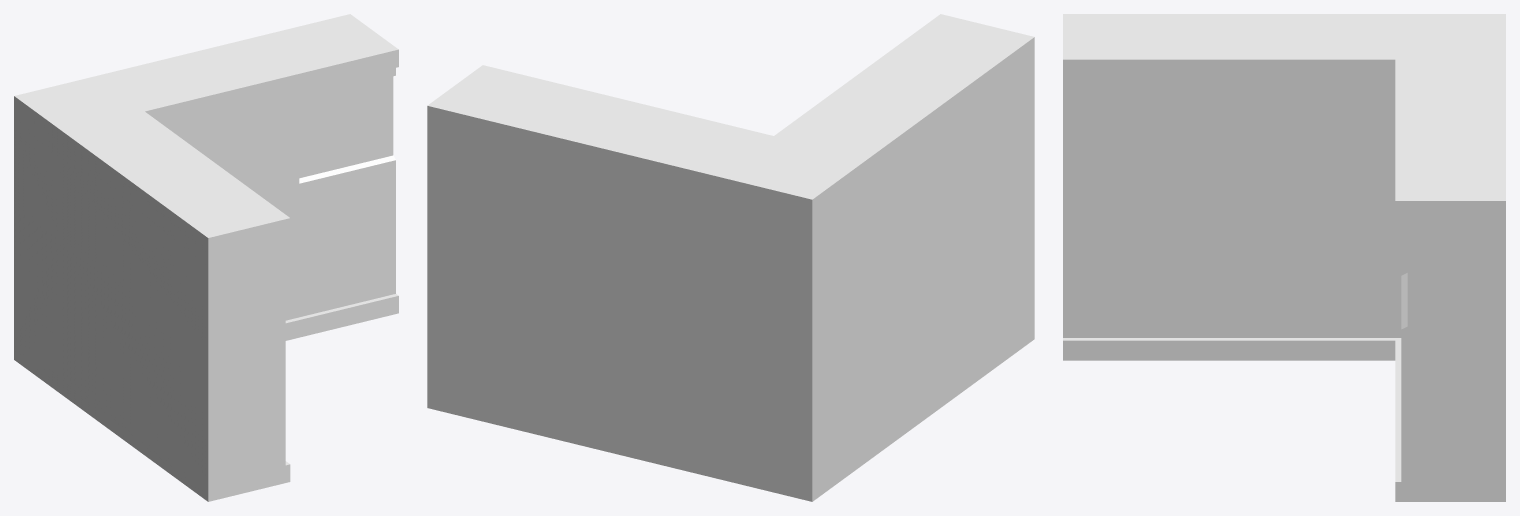
File: Wall_Corner.glb
3 views of the same model, side by side, from view 1: azimuth 30°, elevation 25°; view 2: azimuth 150°, elevation 25°; view 3: azimuth 270°, elevation 25° (orthographic). The views are drawn at different scales.
Parts seen in each view (by area): view 1: Wall_Corner; view 2: Wall_Corner; view 3: Wall_Corner.
Boxes of the visible parts, box(x1,y1,x2,y2) form: Wall_Corner: box(14, 14, 398, 501); Wall_Corner: box(427, 14, 1034, 501); Wall_Corner: box(1063, 14, 1505, 501).
Size of the model in its own units: 4 by 3 by 4.
Materials: 1 (1 with a texture image).
